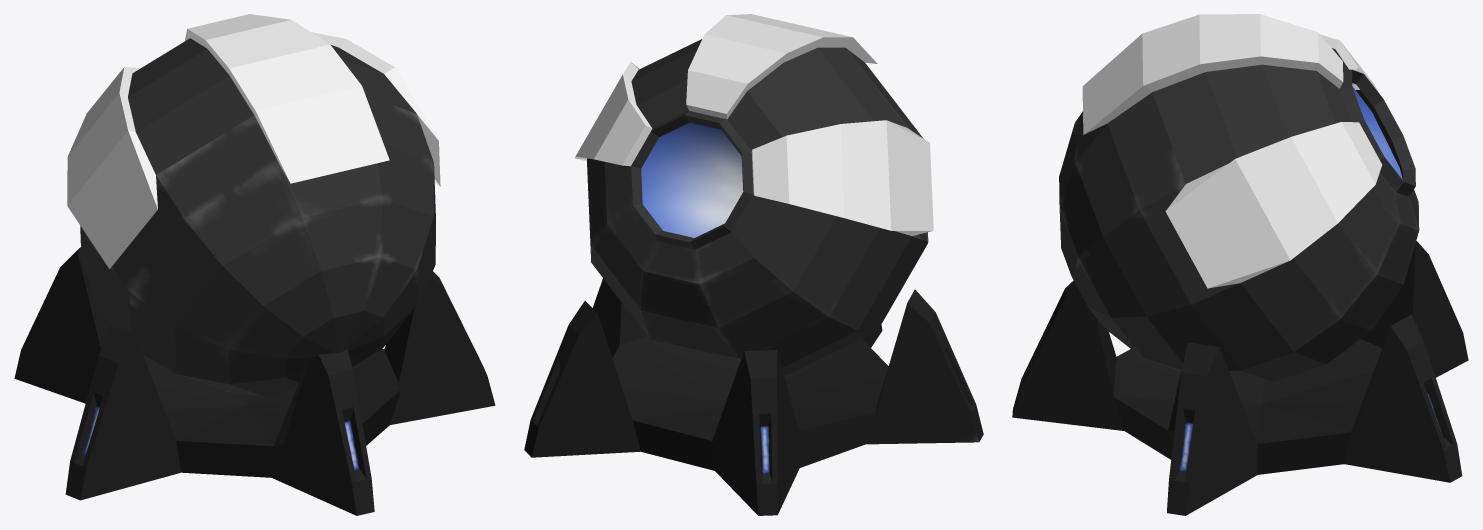
The model's file is TDTornSlow2.fbx.
3 views of the same model, side by side, from view 1: azimuth 30°, elevation 25°; view 2: azimuth 150°, elevation 25°; view 3: azimuth 270°, elevation 25° (orthographic). The views are drawn at different scales.
Visible parts, largest first — view 1: polySurface70, polySurface57; view 2: polySurface70, polySurface57; view 3: polySurface70, polySurface57.
Boxes of the visible parts, left/top/right/bottom form: polySurface70: left=67, top=14, right=440, bottom=397; polySurface57: left=14, top=247, right=495, bottom=515; polySurface70: left=575, top=14, right=933, bottom=374; polySurface57: left=524, top=278, right=983, bottom=515; polySurface70: left=1059, top=14, right=1419, bottom=382; polySurface57: left=1012, top=241, right=1468, bottom=515.
Size of the model in its own units: 18.44 by 16.38 by 17.69.
